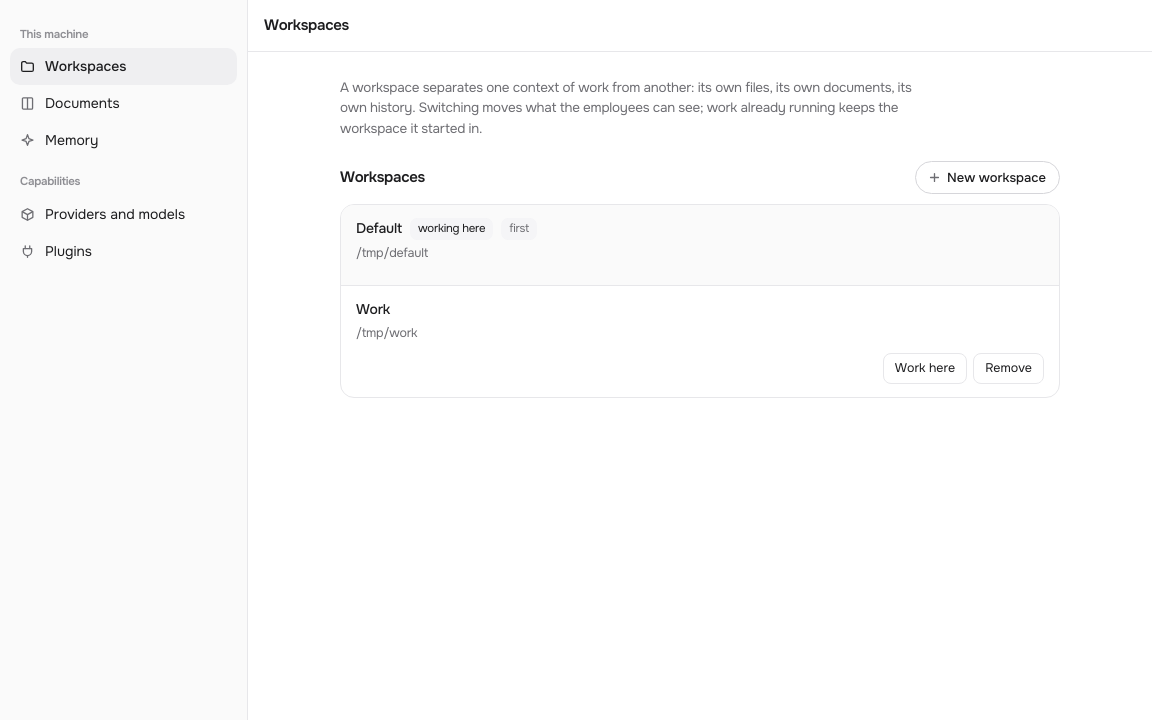
Settings → Documents › says when a document is found by words and not yet by meaning
Click the button "Documents" at (124, 104), box [10,85,237,122]
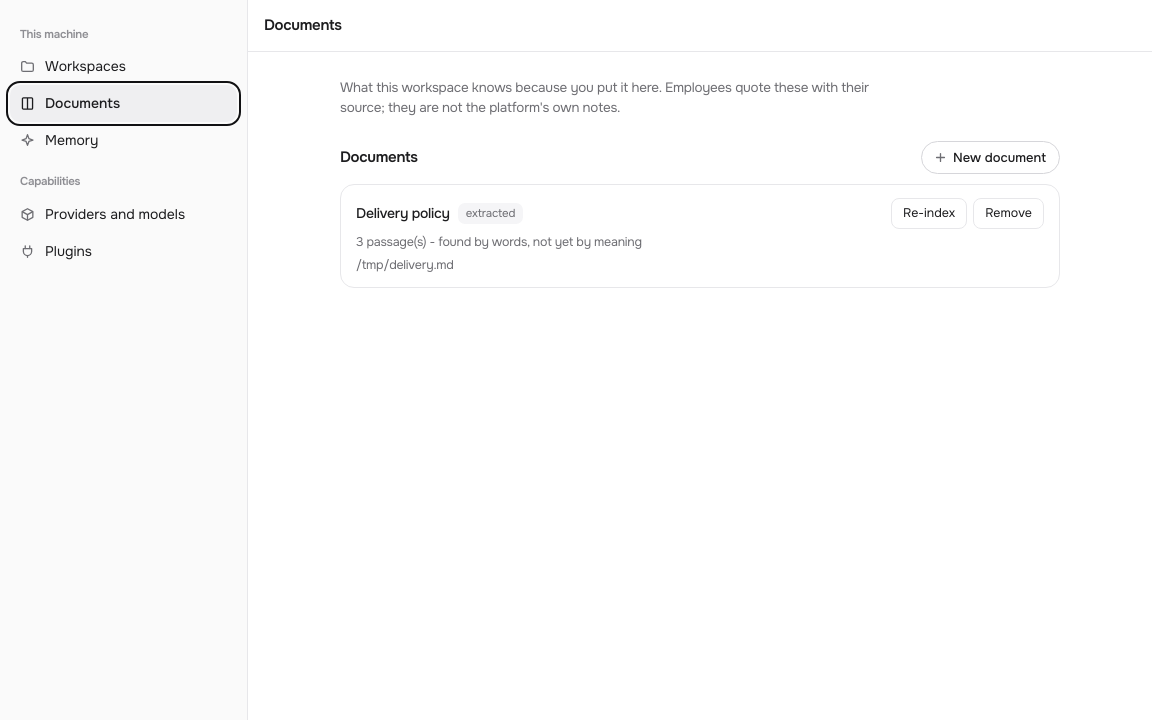
expect the text "3 passage(s) - found by words, not yet by meaning" is shown: met, box [356,234,642,250]
